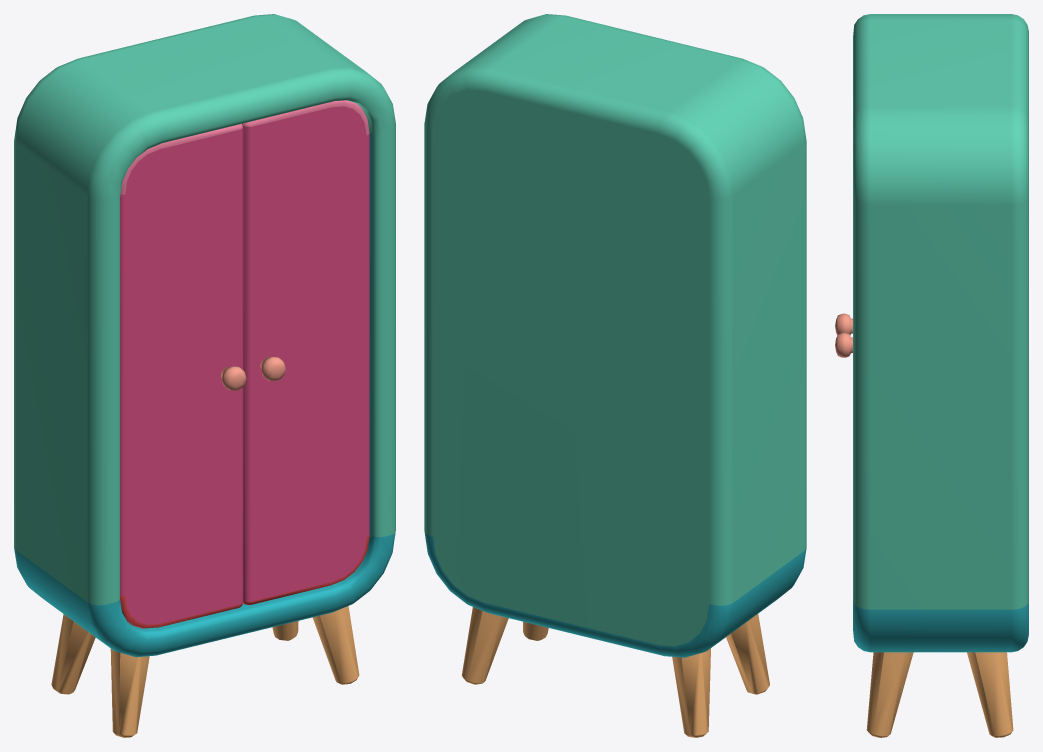
Rendered from armario_turquesa_portas_rosa_pacote.glb.
3 renders of one model, left to right at view 1: azimuth 30°, elevation 25°; view 2: azimuth 150°, elevation 25°; view 3: azimuth 270°, elevation 25°, orthographic.
Visible parts, largest first — view 1: armario_turquesa_portas_rosa_pacote, porta_2, porta_1; view 2: armario_turquesa_portas_rosa_pacote; view 3: armario_turquesa_portas_rosa_pacote, porta_2, porta_1.
Boxes of the visible parts, <box> form: armario_turquesa_portas_rosa_pacote: <box>14,14,395,737</box>; porta_2: <box>242,100,369,604</box>; porta_1: <box>120,124,246,628</box>; armario_turquesa_portas_rosa_pacote: <box>424,14,806,737</box>; armario_turquesa_portas_rosa_pacote: <box>853,14,1028,737</box>; porta_2: <box>835,332,852,357</box>; porta_1: <box>835,313,852,335</box>.
Bounding box in the file's own units: 0.8 × 1.55 × 0.4405.
Materials: 1 (1 with a texture image).
